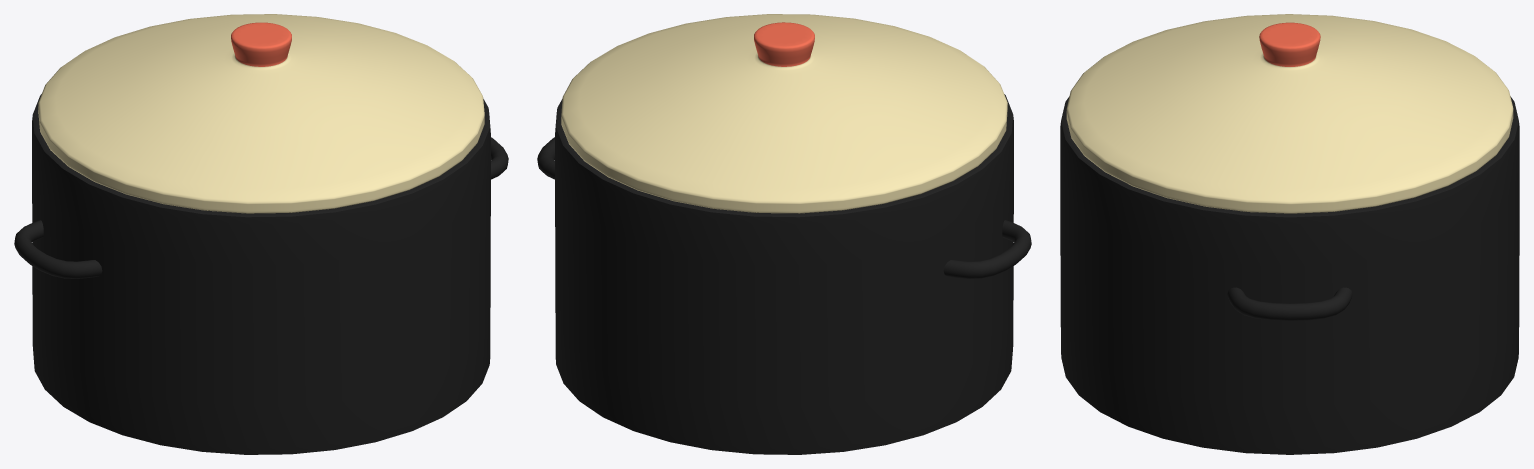
Rendered from HP_pot3.glb.
3 renders of one model, left to right at view 1: azimuth 30°, elevation 25°; view 2: azimuth 150°, elevation 25°; view 3: azimuth 270°, elevation 25°, orthographic.
Visible parts, largest first — view 1: HP_pot3.001, HP_pot3_lid.001; view 2: HP_pot3.001, HP_pot3_lid.001; view 3: HP_pot3.001, HP_pot3_lid.001.
Part boxes in pixels (box(x1,y1,x2,y2)): HP_pot3.001: box(14, 94, 508, 454); HP_pot3_lid.001: box(38, 14, 484, 213); HP_pot3.001: box(537, 94, 1031, 454); HP_pot3_lid.001: box(561, 14, 1007, 213); HP_pot3.001: box(1060, 96, 1519, 454); HP_pot3_lid.001: box(1066, 14, 1513, 213).
Size of the model in its own units: 0.2872 by 0.1897 by 0.2436.
Materials: 1 (1 with a texture image).
